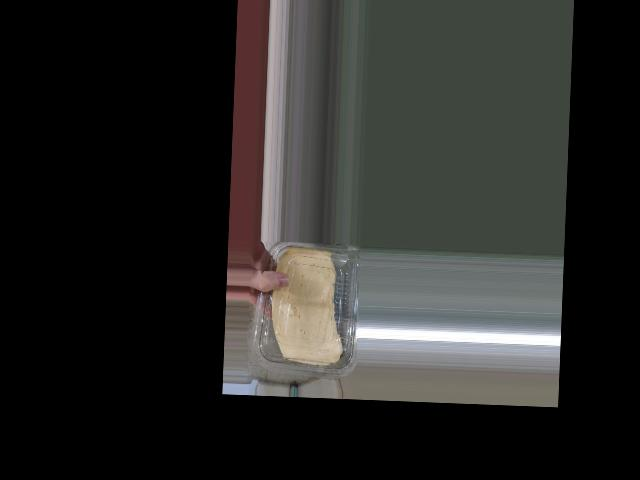cheese: (262, 240, 361, 379)
